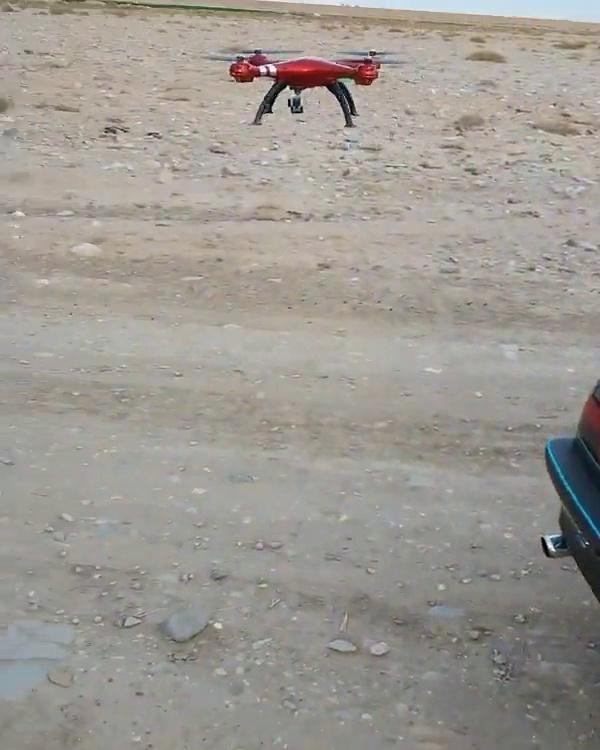drone: (196, 42, 409, 132)
